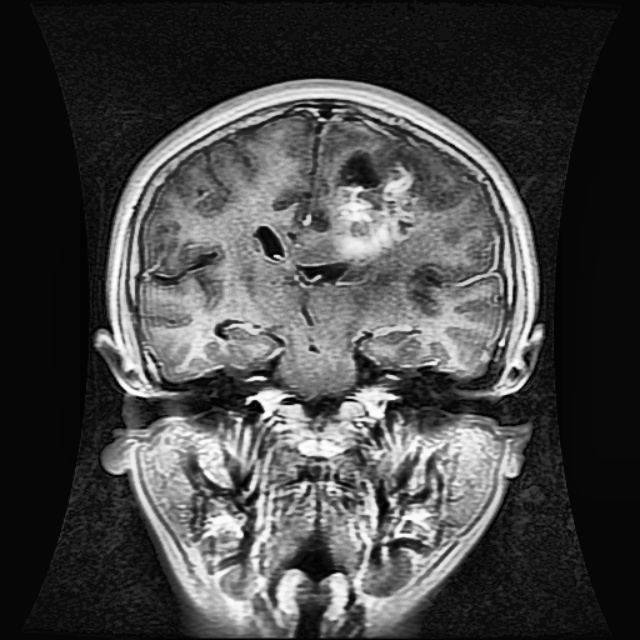Glioma: (323, 144, 414, 263)
